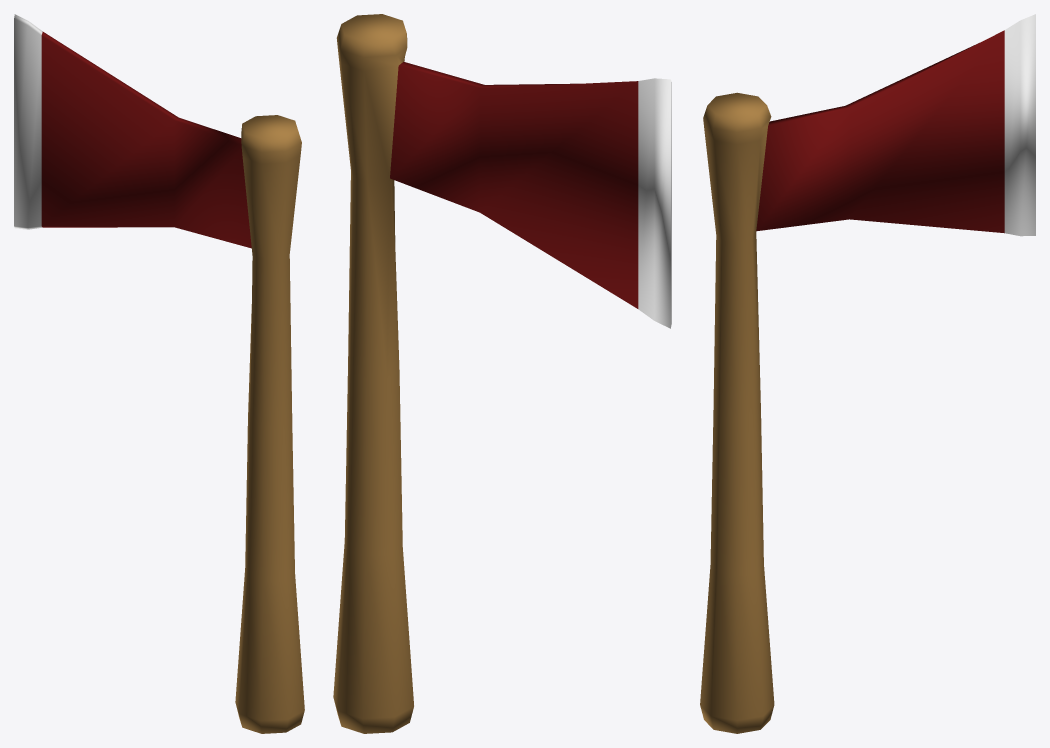
File: axe.fbx
The picture shows the model from 3 angles, left to right: view 1: azimuth 30°, elevation 25°; view 2: azimuth 210°, elevation 25°; view 3: azimuth 270°, elevation 25°; orthographic projection. The views are drawn at different scales.
Parts seen in each view (by area): view 1: Circle; view 2: Circle; view 3: Circle.
Boxes of the visible parts, x1,y1,x2,y2 form: Circle: (14,14,304,733); Circle: (333,14,671,733); Circle: (700,14,1035,733).
Size of the model in its own units: 61.63 by 121 by 258.
